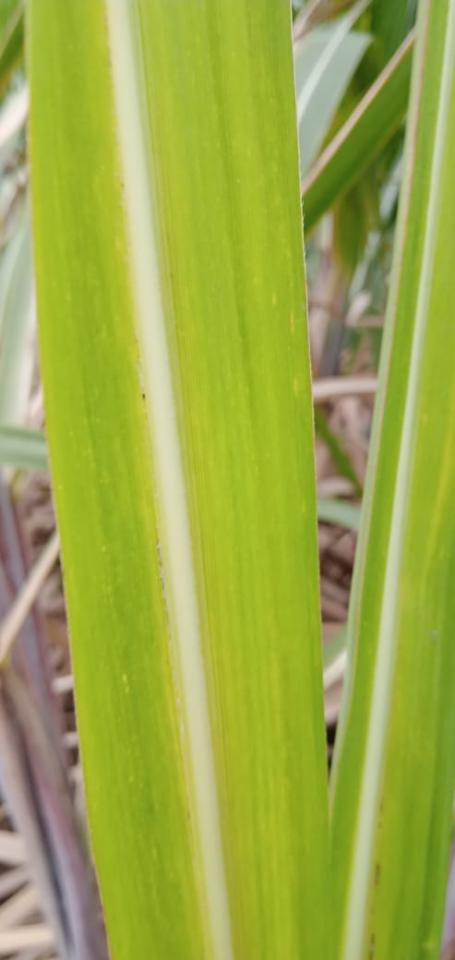Rust: (372, 861, 384, 886), (378, 797, 386, 814), (139, 391, 148, 405), (369, 932, 378, 945), (376, 821, 384, 828), (368, 950, 374, 959)
